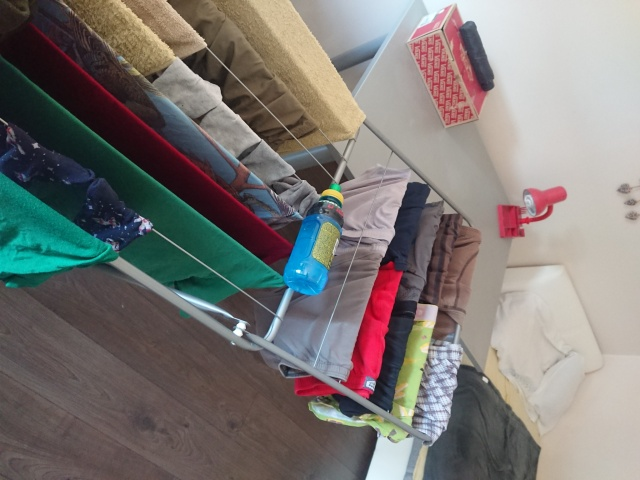Vindi Iso Sport Forest Strawberries 500mL: (281, 180, 344, 297)
